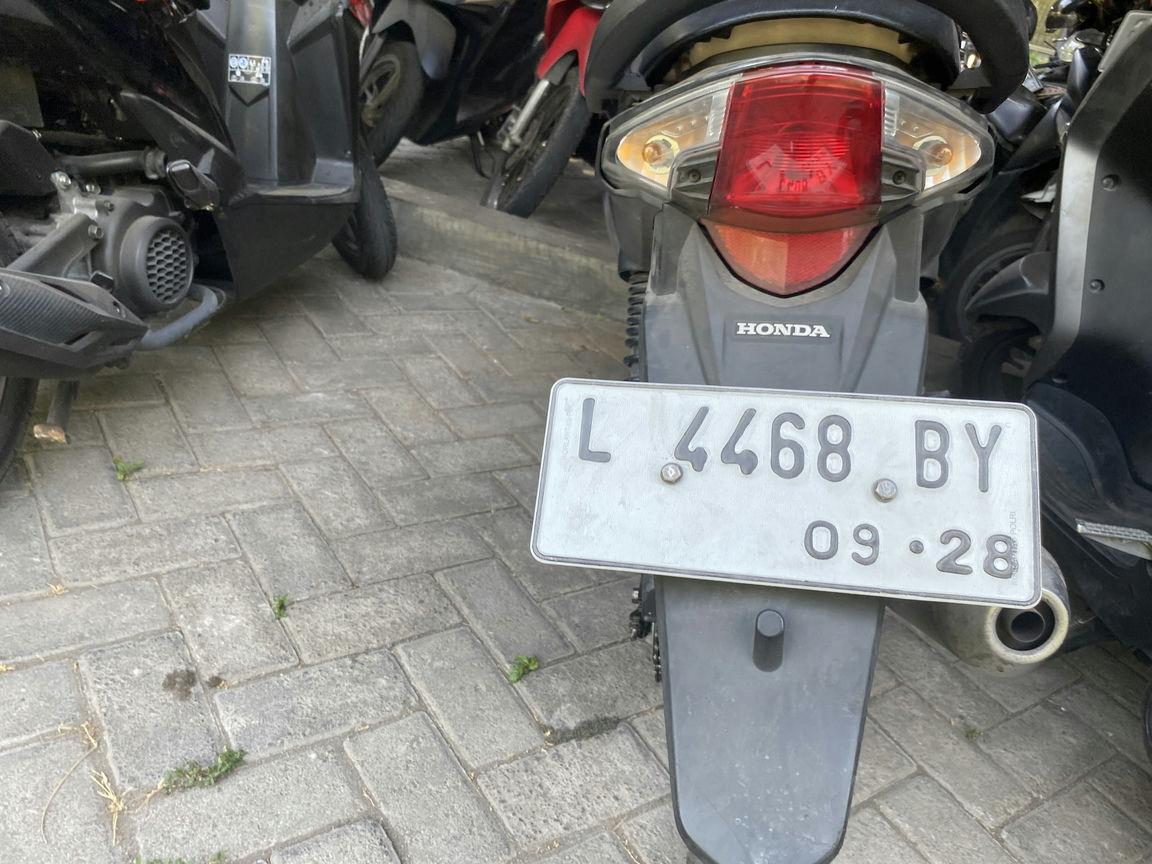plat: (531, 378, 1042, 608)
